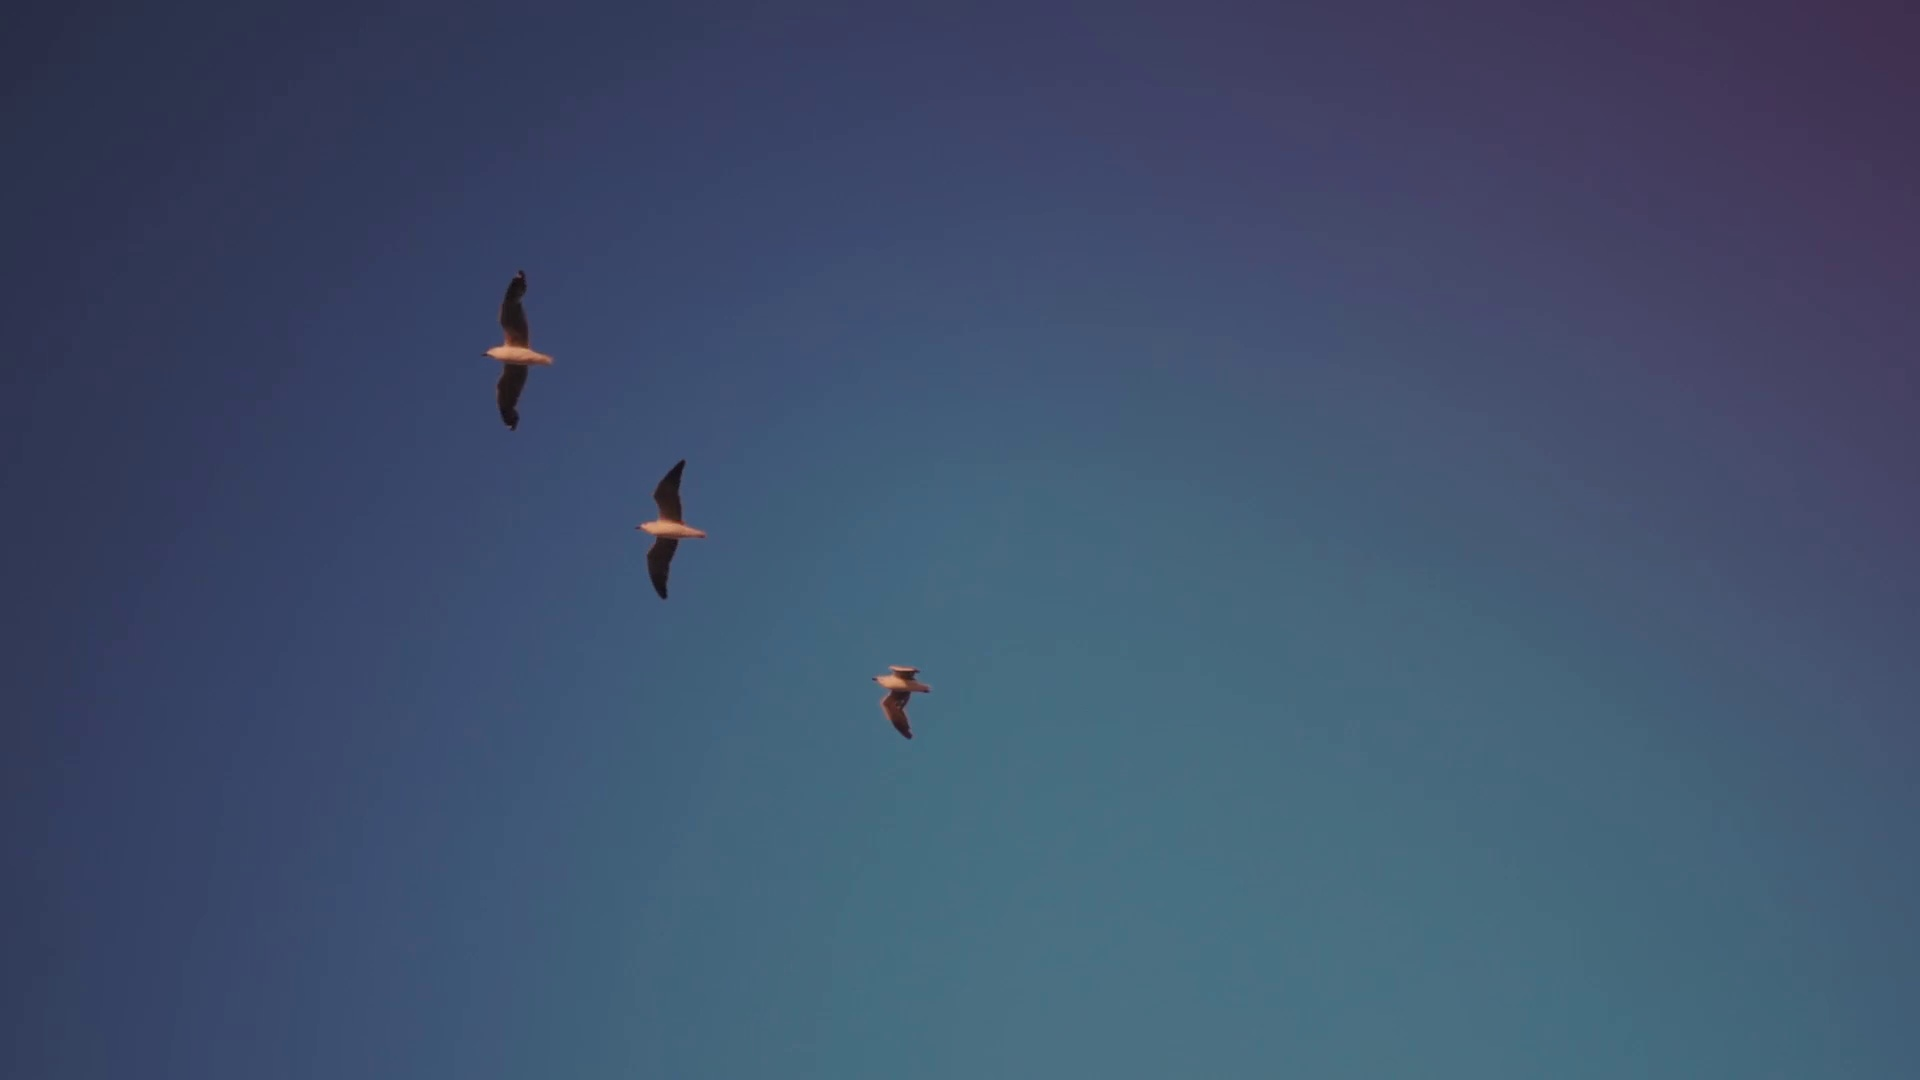bird: (480, 265, 551, 429), (638, 454, 709, 596), (872, 666, 928, 741)
